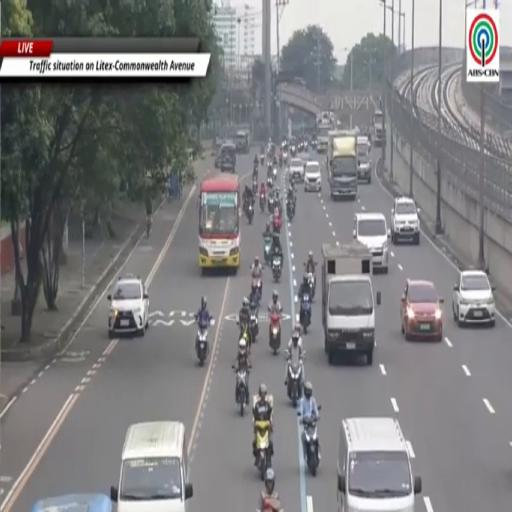bus: (199, 174, 241, 271), (32, 494, 112, 511)
car: (108, 275, 149, 339), (400, 280, 443, 341), (453, 270, 495, 326), (353, 213, 390, 274), (391, 197, 420, 245), (304, 162, 321, 191), (221, 142, 236, 172), (358, 154, 371, 184), (289, 157, 304, 182)
motorcycle: (300, 416, 319, 476), (255, 421, 271, 481), (287, 361, 303, 407), (236, 366, 250, 415), (237, 320, 252, 354), (270, 313, 281, 355), (197, 328, 209, 366), (300, 294, 311, 333), (257, 496, 283, 511), (249, 303, 258, 342), (251, 278, 261, 307), (272, 256, 282, 282), (264, 237, 272, 264), (307, 272, 315, 299), (273, 215, 282, 233), (287, 201, 294, 221), (247, 202, 253, 225), (268, 194, 274, 213), (252, 163, 258, 181), (260, 194, 266, 212), (252, 178, 257, 196), (267, 165, 272, 180), (273, 167, 277, 182), (283, 151, 287, 164), (291, 146, 296, 156), (279, 156, 283, 168), (260, 154, 264, 166), (298, 142, 303, 151)
truck: (321, 242, 381, 364), (327, 131, 357, 200), (357, 136, 371, 183), (316, 121, 333, 153), (373, 109, 385, 147), (235, 130, 251, 154)
